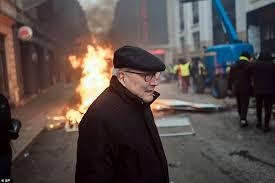fire: (61, 40, 115, 121)
